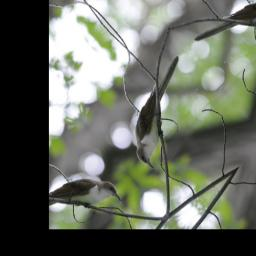Cuckoo: (105, 52, 222, 174)
